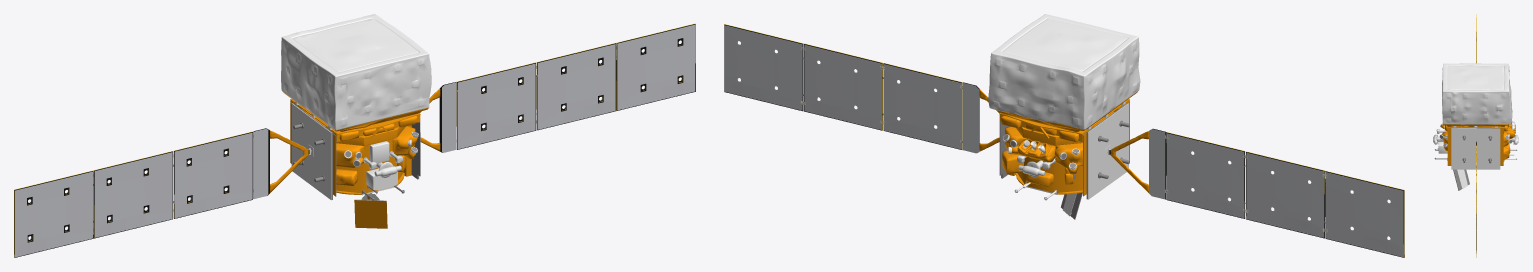
File: sc_fermi_swift.glb
The picture shows the model from 3 angles, left to right: view 1: azimuth 30°, elevation 25°; view 2: azimuth 150°, elevation 25°; view 3: azimuth 270°, elevation 25°; orthographic projection. The views are drawn at different scales.
Visible parts, largest first — view 1: NEW_SP_R_Con_pCube39, NEW_SP_R_Con_pCube39.001, Fermi_Model_Head_V2.001, Fermi_model_BUS_polySurface634, NEW_SP_V2_pCube33, Fermi_model_BUS_GLAST_silverfoil_sm, Fermi_model_BUS_polySurface727, Fermi_model_BUS_SDO_white_sm, NEW_SP_R_Con_pCube40.001, Fermi_model_BUS_polySurface293.002; view 2: NEW_SP_R_Con_pCube39, NEW_SP_R_Con_pCube39.001, Fermi_Model_Head_V2.001, Fermi_model_BUS_polySurface634, NEW_SP_V2_pCube33, Fermi_model_BUS_polySurface727, Fermi_model_BUS_GLAST_silverfoil_sm, NEW_SP_R_Con_pCube40.001; view 3: Fermi_Model_Head_V2.001, NEW_SP_V2_pCube32, Fermi_model_BUS_polySurface634, Fermi_model_BUS_GLAST_silverfoil_sm, Fermi_model_BUS_polySurface402, Fermi_model_BUS_polySurface727, Fermi_model_BUS_polySurface195.011, NEW_SP_R_Con_pCube39, Fermi_model_BUS_pCylinder16, Fermi_model_BUS_polySurface293.004, Fermi_model_BUS_polySurface568, NEW_SP_V2_polySurface763 (+1 smaller).
Part boxes in pixels (x1,y1,x2,y2): NEW_SP_R_Con_pCube39: (439, 23, 695, 152); NEW_SP_R_Con_pCube39.001: (14, 128, 269, 257); Fermi_Model_Head_V2.001: (281, 14, 431, 130); Fermi_model_BUS_polySurface634: (283, 92, 428, 228); NEW_SP_V2_pCube33: (291, 103, 332, 200); Fermi_model_BUS_GLAST_silverfoil_sm: (336, 126, 417, 167); Fermi_model_BUS_polySurface727: (336, 115, 417, 185); Fermi_model_BUS_SDO_white_sm: (290, 102, 420, 196); NEW_SP_R_Con_pCube40.001: (270, 130, 309, 192); Fermi_model_BUS_polySurface293.002: (370, 141, 389, 163); NEW_SP_R_Con_pCube39: (724, 24, 979, 153); NEW_SP_R_Con_pCube39.001: (1149, 128, 1404, 257); Fermi_Model_Head_V2.001: (988, 14, 1140, 129); Fermi_model_BUS_polySurface634: (999, 91, 1137, 195); NEW_SP_V2_pCube33: (1086, 103, 1128, 199); Fermi_model_BUS_polySurface727: (1001, 115, 1078, 186); Fermi_model_BUS_GLAST_silverfoil_sm: (1005, 126, 1082, 174); NEW_SP_R_Con_pCube40.001: (1109, 131, 1148, 192); Fermi_Model_Head_V2.001: (1442, 63, 1512, 124); NEW_SP_V2_pCube32: (1451, 128, 1500, 169); Fermi_model_BUS_polySurface634: (1443, 124, 1507, 165); Fermi_model_BUS_GLAST_silverfoil_sm: (1440, 124, 1514, 150); Fermi_model_BUS_polySurface402: (1453, 169, 1469, 190); Fermi_model_BUS_polySurface727: (1445, 125, 1510, 159); Fermi_model_BUS_polySurface195.011: (1457, 169, 1467, 188); NEW_SP_R_Con_pCube39: (1476, 141, 1476, 257); Fermi_model_BUS_pCylinder16: (1439, 120, 1512, 147); Fermi_model_BUS_polySurface293.004: (1438, 141, 1447, 153); Fermi_model_BUS_polySurface568: (1436, 129, 1514, 141); NEW_SP_V2_polySurface763: (1462, 135, 1492, 163).
Bounding box in the file's own units: 1.99 × 0.4972 × 0.3551.
Materials: 12 (2 with a texture image).
